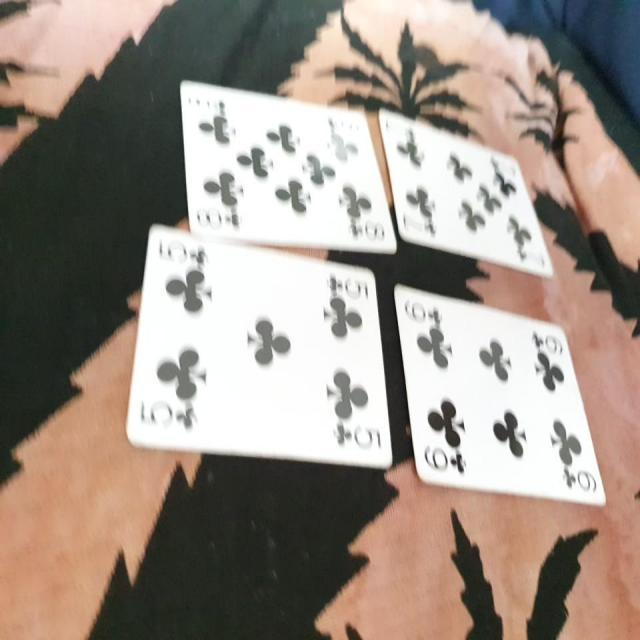5 of clubs: (125, 220, 396, 467)
6 of clubs: (394, 282, 608, 508)
7 of clubs: (376, 107, 553, 280)
8 of clubs: (178, 78, 398, 256)
